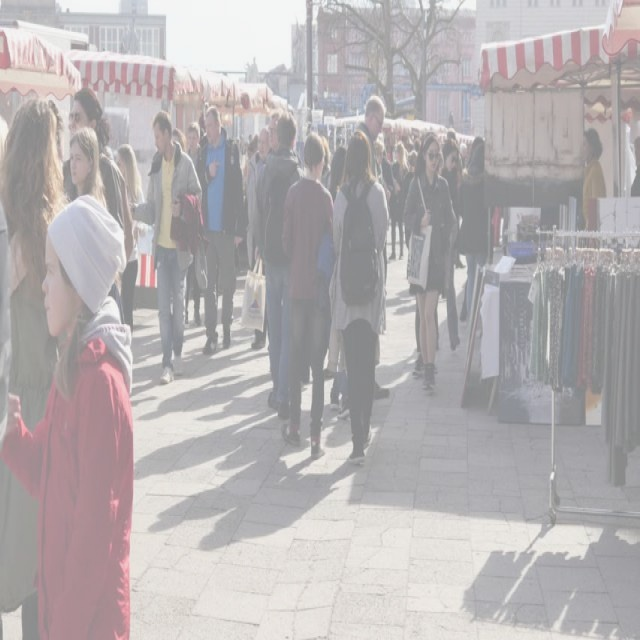pessoa: (0, 192, 135, 639), (0, 94, 72, 638), (155, 378, 284, 558), (123, 108, 204, 387), (275, 130, 338, 462), (328, 128, 390, 464), (253, 109, 307, 423), (401, 134, 458, 400), (61, 84, 136, 264), (194, 102, 246, 356), (354, 90, 392, 402), (68, 126, 126, 326), (410, 146, 446, 378), (456, 138, 496, 340), (455, 136, 494, 332), (114, 143, 147, 344), (433, 136, 462, 356), (1, 60, 19, 407), (182, 120, 204, 327), (378, 109, 476, 152), (246, 125, 270, 271), (258, 110, 304, 178), (580, 125, 608, 234), (374, 140, 392, 294), (388, 142, 410, 262), (398, 148, 418, 252), (324, 145, 352, 204), (230, 130, 260, 184), (318, 132, 332, 191), (628, 134, 640, 198), (170, 125, 188, 152)
